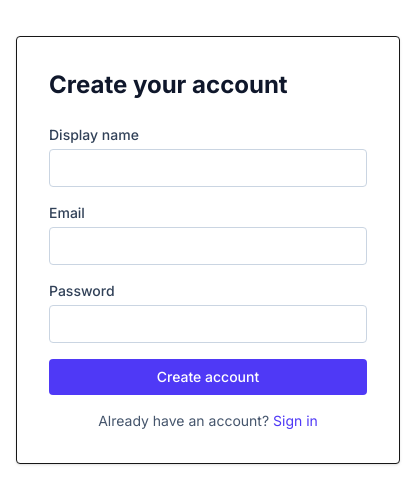
Test: RegisterPage › shows invalid email error for malformed email
The image size is (417, 502).
Type "Alice" into the field labelled "Display name" at (208, 168), box [49,149,367,187]
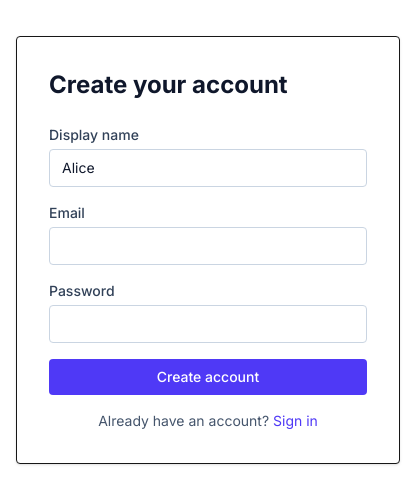
Type "notanemail" into the field labelled "Email" at (208, 246), box [49,227,367,265]
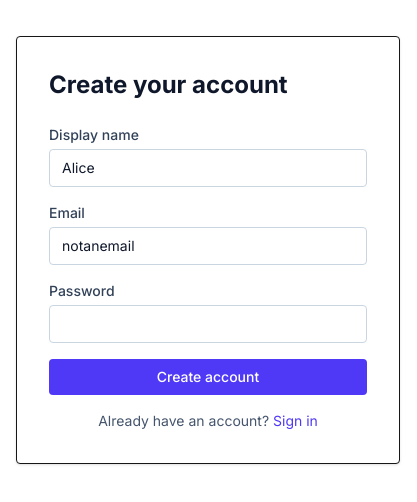
Type "password123" into the password field labelled "Password" at (208, 324), box [49,305,367,343]
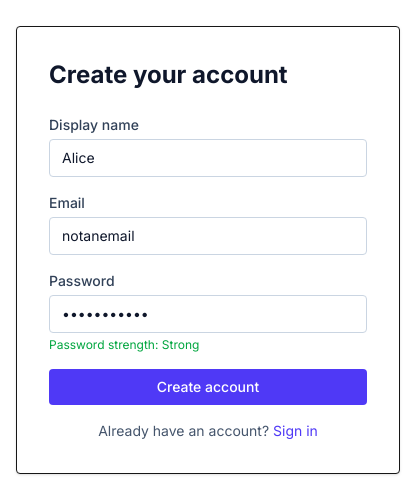
Click the button "Create account" at (208, 387), box [49,369,367,405]
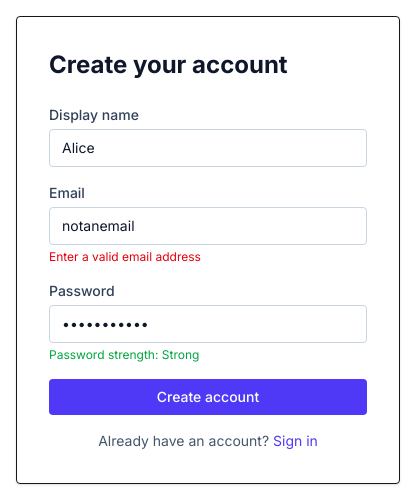
Check: the text "Enter a valid email address" is shown, box [49,249,201,264]
